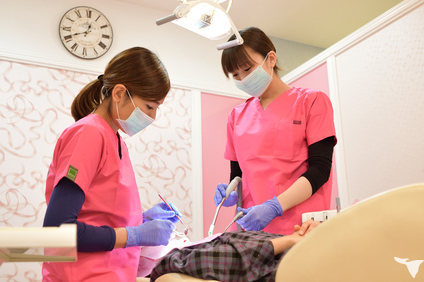mask: (231, 65, 272, 98), (118, 108, 156, 137)
